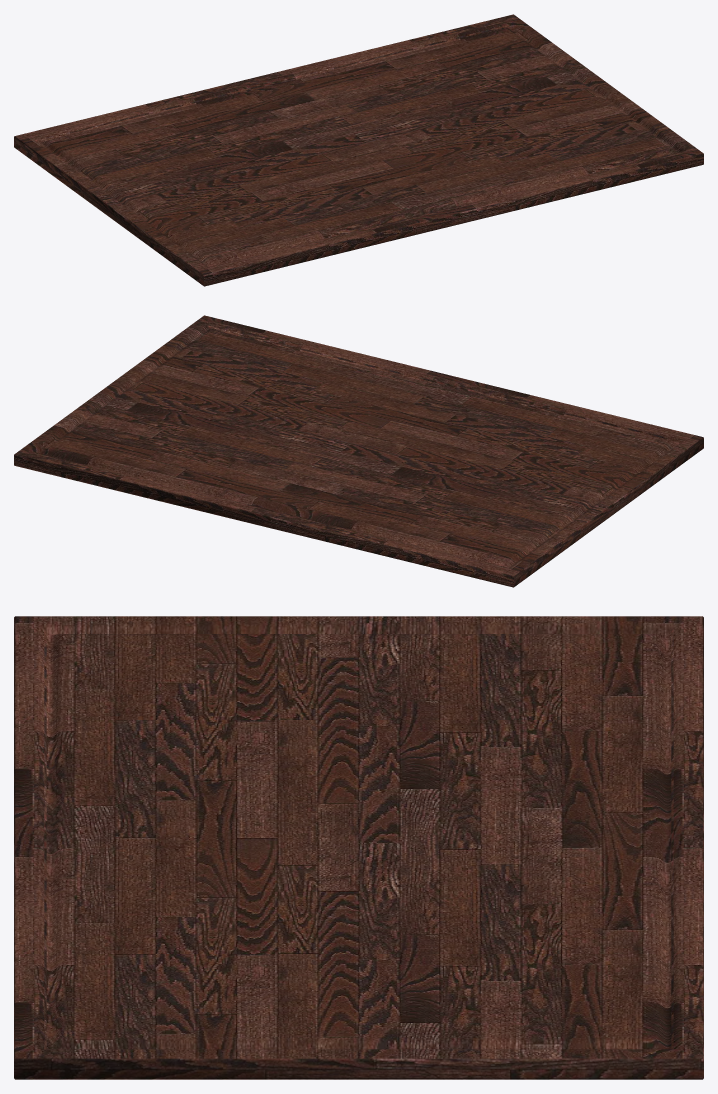
The model's file is board.glb.
3 renders of one model, top to bottom at view 1: azimuth 30°, elevation 25°; view 2: azimuth 150°, elevation 25°; view 3: azimuth 270°, elevation 25°, orthographic. The views are drawn at different scales.
Parts seen in each view (by area): view 1: Object_2; view 2: Object_2; view 3: Object_2.
Boxes of the visible parts, <box> form: Object_2: <box>14,14,703,286</box>; Object_2: <box>14,315,703,587</box>; Object_2: <box>14,616,703,1079</box>.
Bounding box in the file's own units: 1.07 × 0.0254 × 0.708.
Materials: 1 (1 with a texture image).
